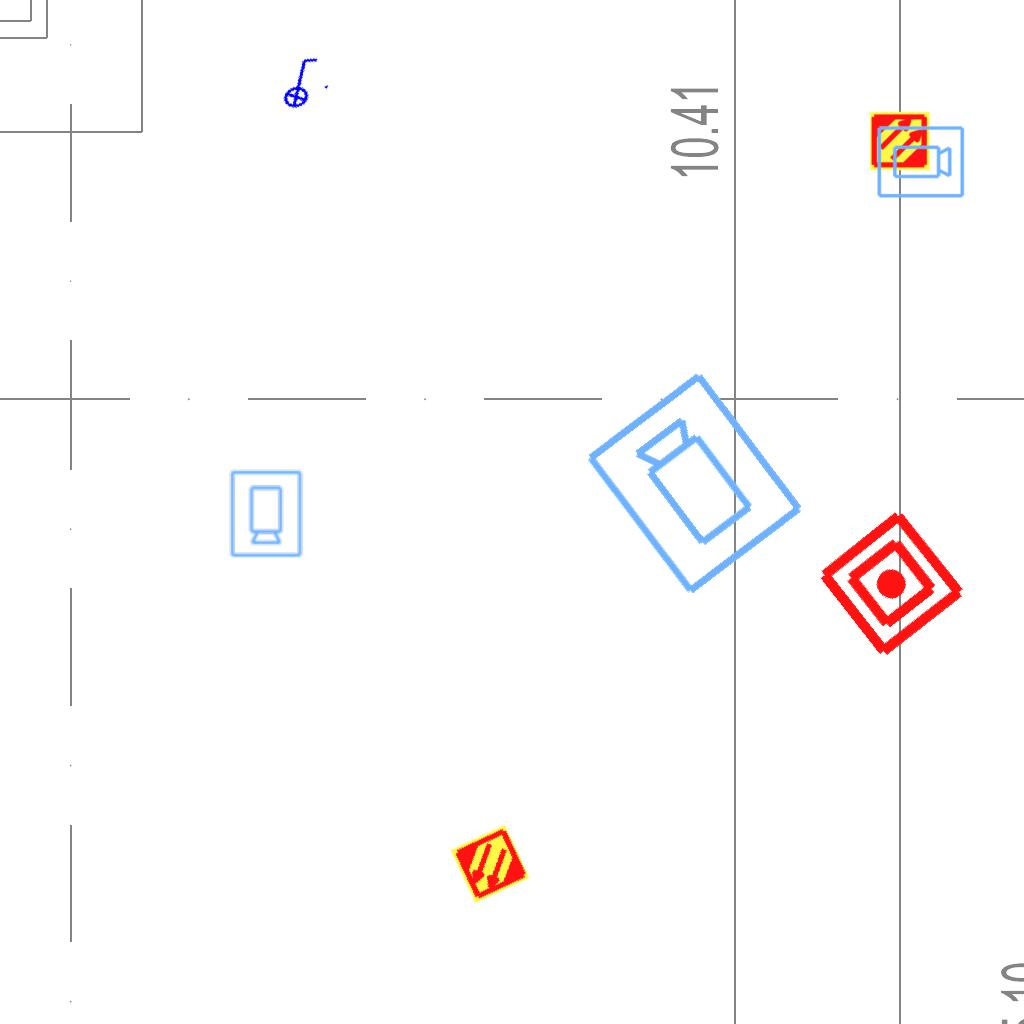ASR_Ansaugrauchmelder: (448, 822, 532, 906), (869, 110, 931, 172)
Ausschalter_beleuchtet: (265, 50, 335, 114)
KFO_Kamera_mit_Festobjektiv: (579, 363, 813, 603), (227, 468, 304, 559), (875, 124, 966, 201)
NAM-Nichtautomatischer_Melder: (812, 504, 971, 663)
